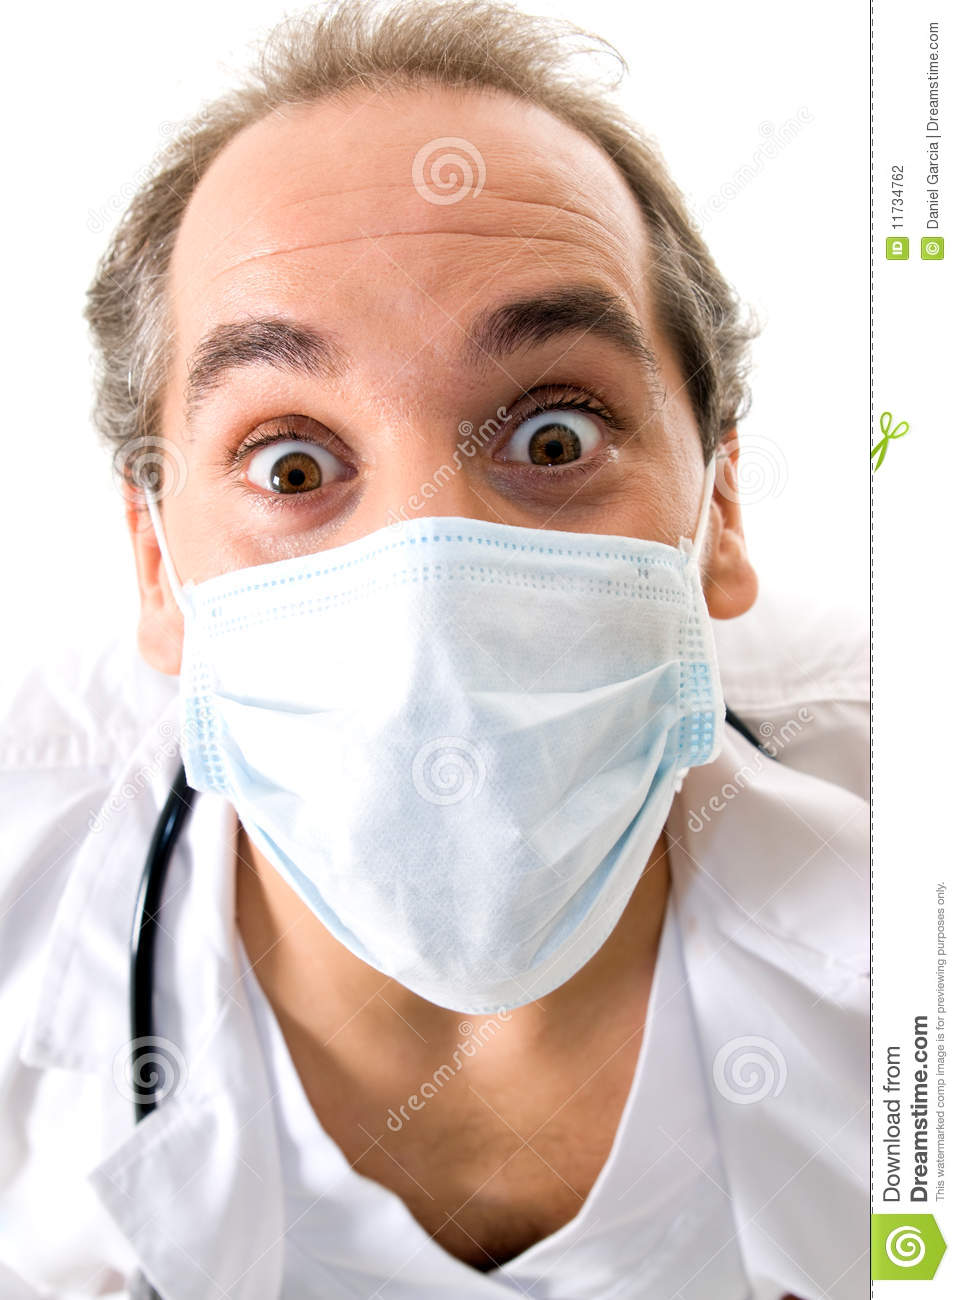mask: (174, 513, 718, 1007)
